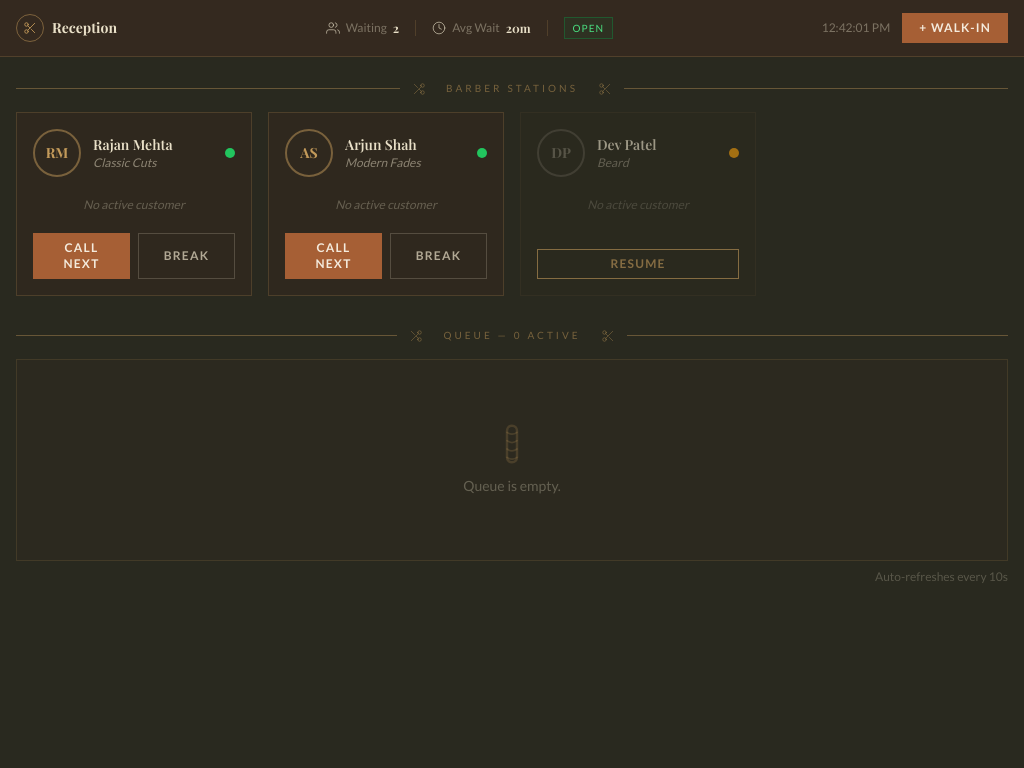
Test case: ReceptionPage — walk-in modal › closes the modal when Cancel is clicked
Click the button "+ Walk-In" at (955, 28), box [902,13,1008,43]
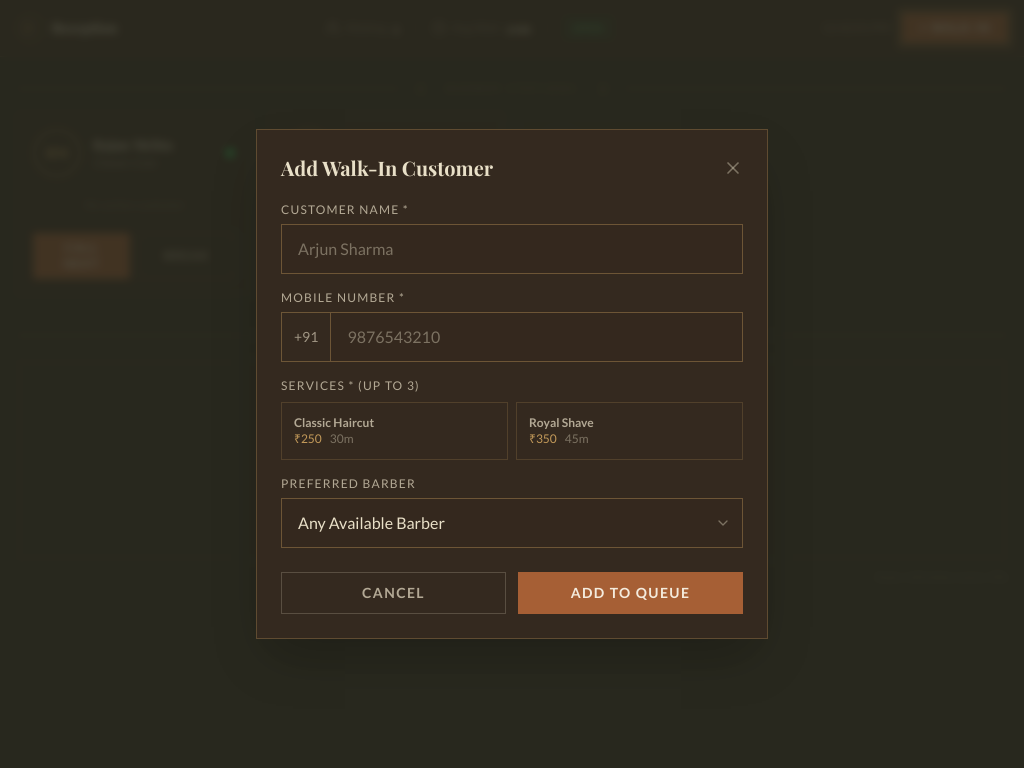
Now the dialog is shown
# Click the Cancel button inside the modal form
Click the button "Cancel" at (394, 593), box [281,572,506,614]
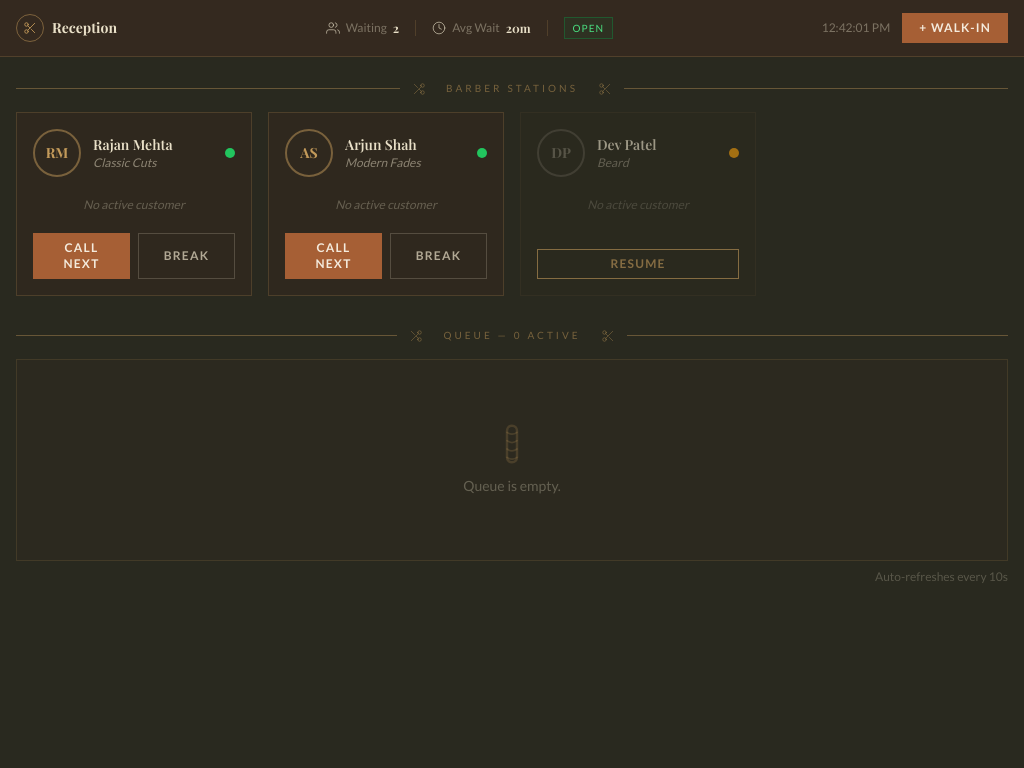
Now the dialog is gone
